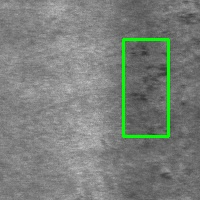rolled-in_scale: (123, 39, 168, 136)
